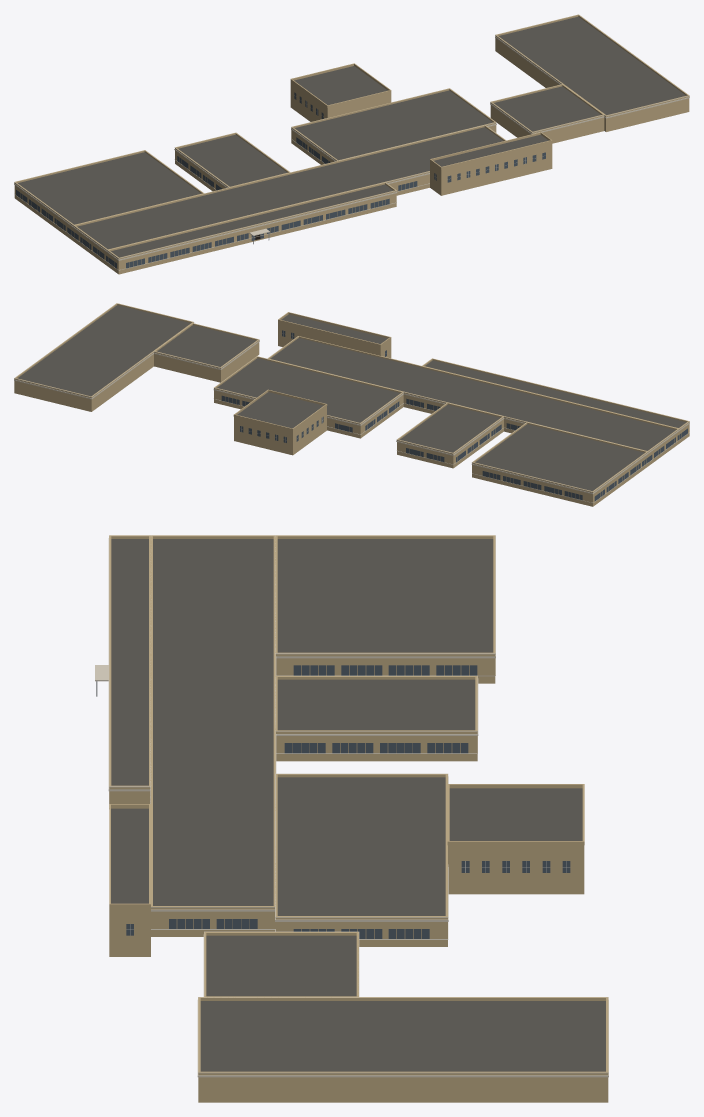
Rendered from j-a-fair-high-school.glb.
3 views of the same model, one above another, from view 1: azimuth 30°, elevation 25°; view 2: azimuth 150°, elevation 25°; view 3: azimuth 270°, elevation 25° (orthographic). The views are drawn at different scales.
Visible parts, largest first — view 1: j_a_fair_high_school; view 2: j_a_fair_high_school; view 3: j_a_fair_high_school.
Boxes of the visible parts, x1,y1,x2,y2 form: j_a_fair_high_school: [14, 14, 689, 274]; j_a_fair_high_school: [14, 303, 689, 506]; j_a_fair_high_school: [95, 535, 608, 1102].
Size of the model in its own units: 214 by 9.8 by 86.52.
